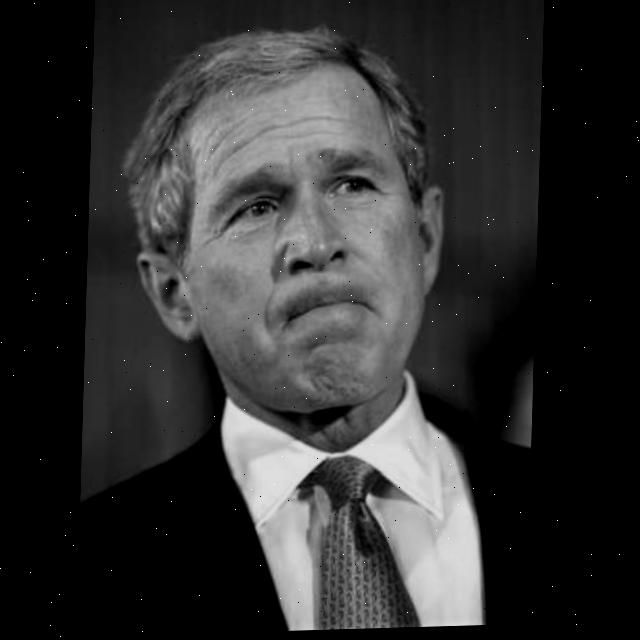face: (149, 67, 448, 430)
